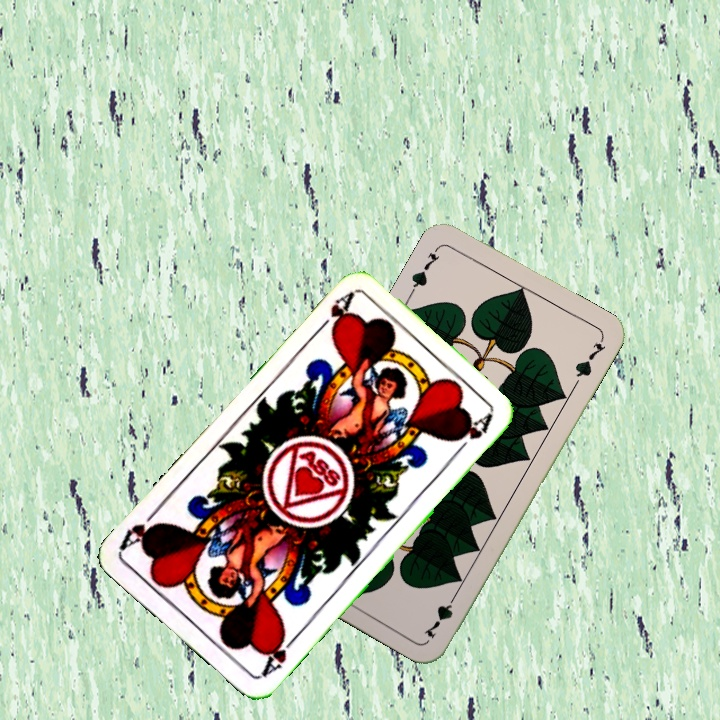G7: (420, 587, 461, 642), (406, 242, 443, 296)
HA: (257, 627, 302, 680), (310, 288, 357, 337)
